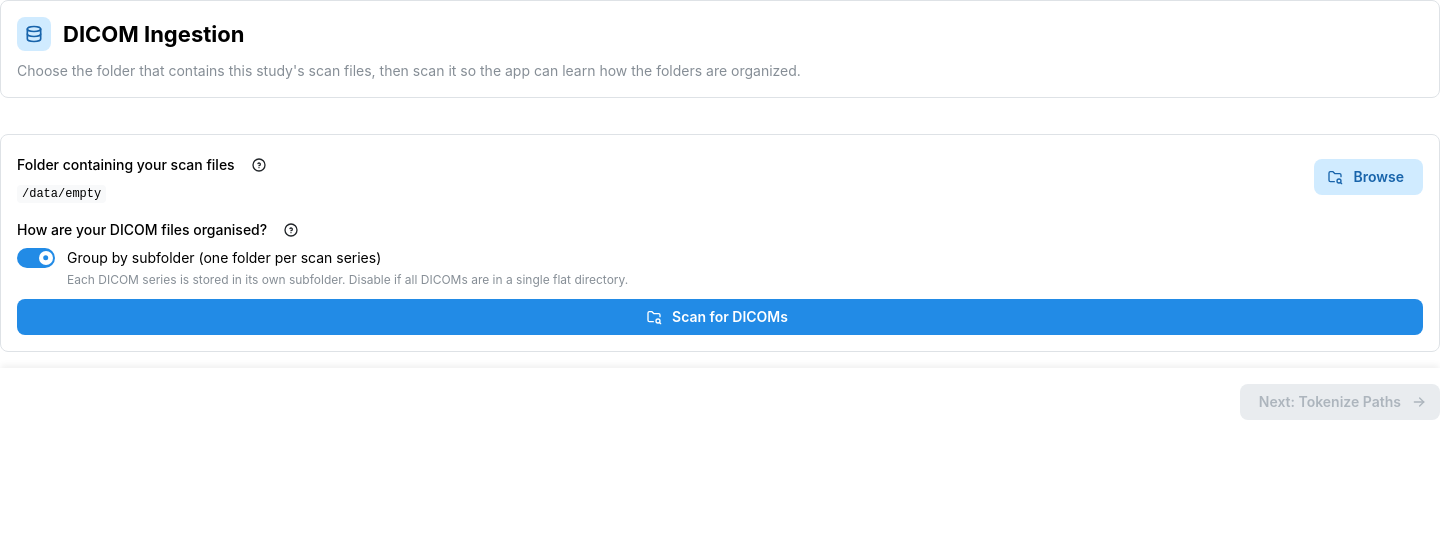
Test: DicomIngestion › shows error when no DICOMs found
Click the button with test id "scan-dicoms-btn": (720, 318) [17,300,1423,336]
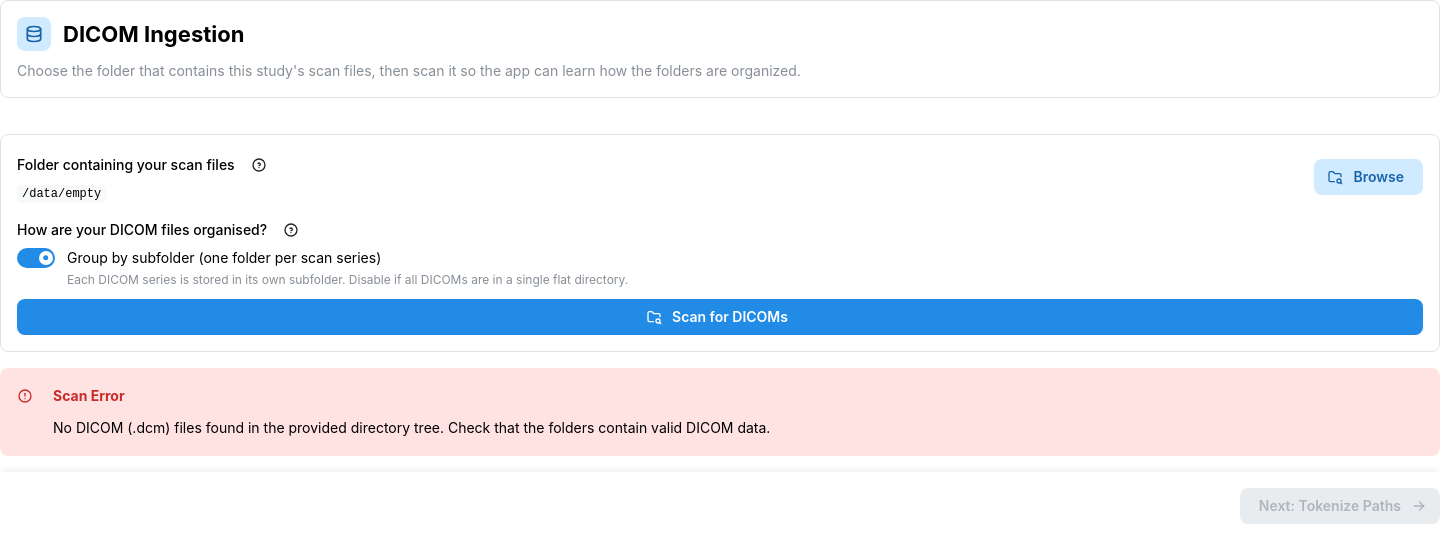
Result: the text "No DICOM" is shown at [53,419,770,436]
